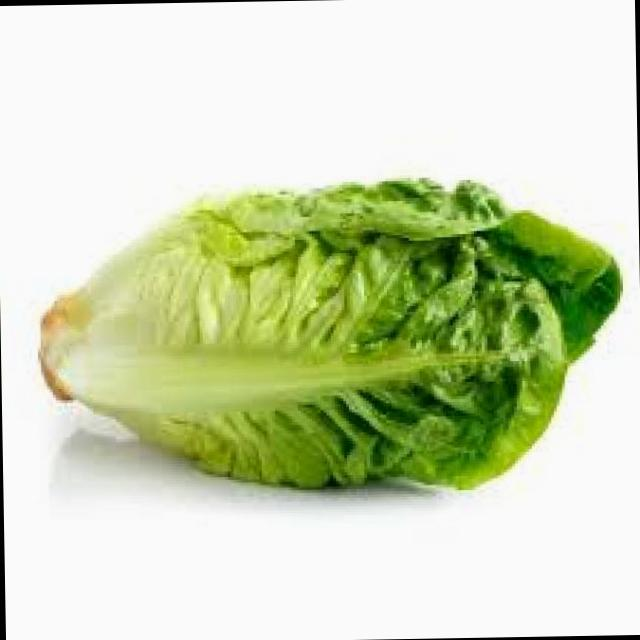Lettuce-Ready-to-Harvest: (41, 179, 620, 488)
